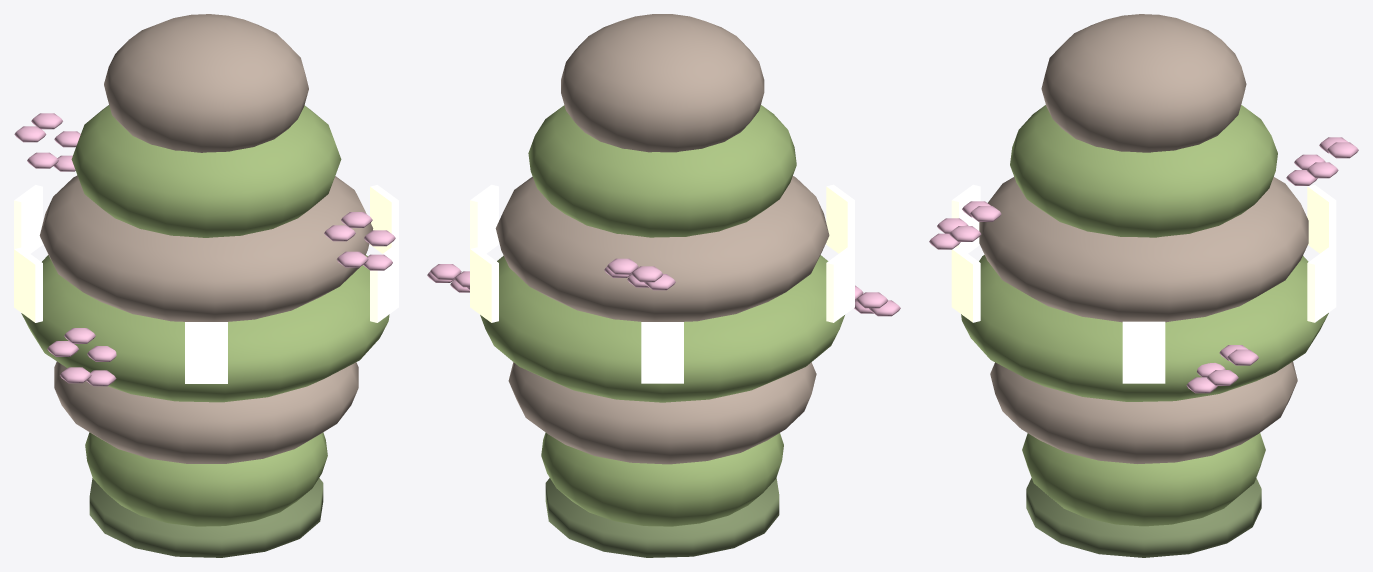
The model's file is egg_prehistoric_09.glb.
3 renders of one model, left to right at view 1: azimuth 30°, elevation 25°; view 2: azimuth 150°, elevation 25°; view 3: azimuth 270°, elevation 25°, orthographic.
Parts seen in each view (by area): view 1: ball; view 2: ball; view 3: ball.
Part boxes in pixels (box(x1,y1,x2,y2)): ball: box(14, 14, 398, 557); ball: box(427, 14, 900, 557); ball: box(929, 14, 1358, 557).
Bounding box in the file's own units: 0.8208 × 0.99 × 0.8038.
